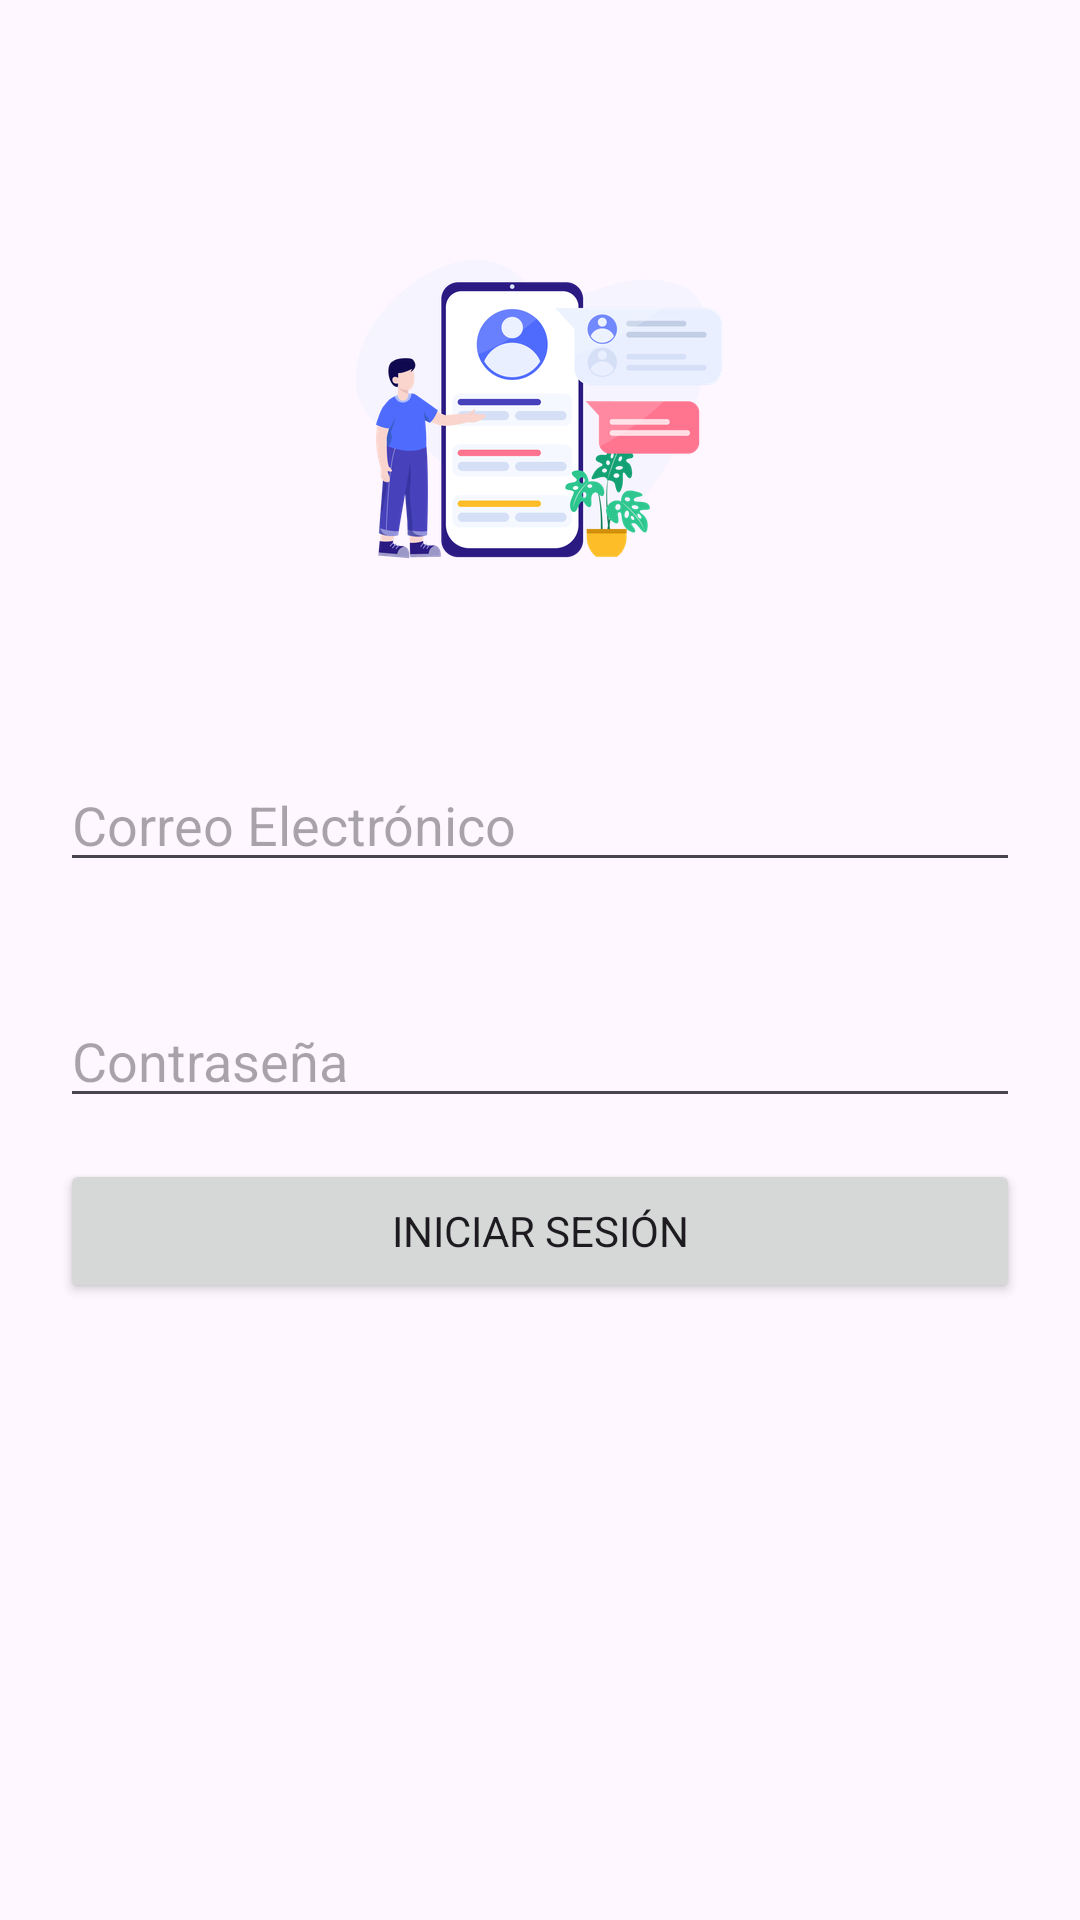

Locate icon controls on the screen. Image size 1080×1920, boxes as {"x1": x1, "y1": y1, "x2": x2, "y2": y2}.
login: {"x1": 376, "y1": 282, "x2": 707, "y2": 558}
